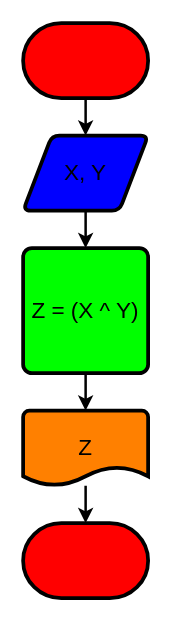
This 171x621 diagram has some shape labels left out. The shapes that lost their labels are listed below. From the top down, each one's box as (x1, y1, x2, y2) in pixels, then its label:
(21, 21, 149, 99): INICIO
(21, 521, 149, 599): FIN
